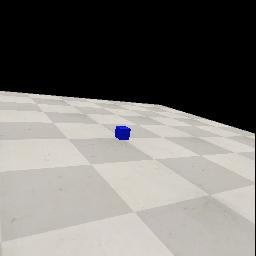box: (115, 126, 131, 140)
